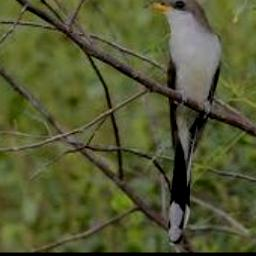Cuckoo: (143, 0, 223, 243)
